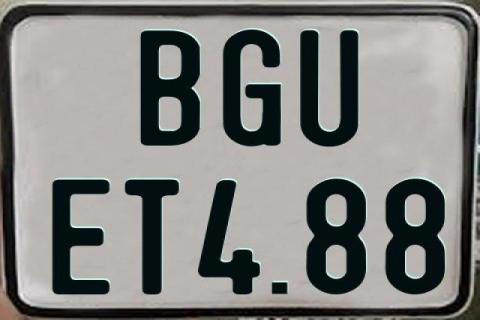0: (198, 180, 266, 298), (303, 176, 366, 294), (384, 178, 447, 296)
B: (138, 29, 198, 149)
E: (52, 177, 115, 293)
G: (220, 27, 279, 144)
T: (122, 178, 182, 294)
U: (297, 28, 358, 145)
